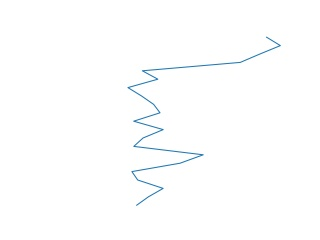crevasseRiverChannelBar: (124, 34, 284, 210)
